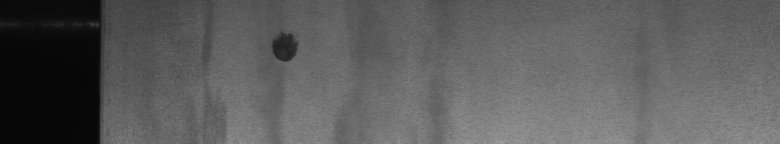fi: (196, 8, 304, 115)
